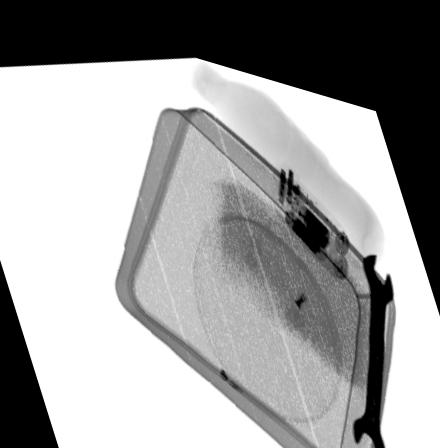Wrench: (352, 228, 394, 439)
